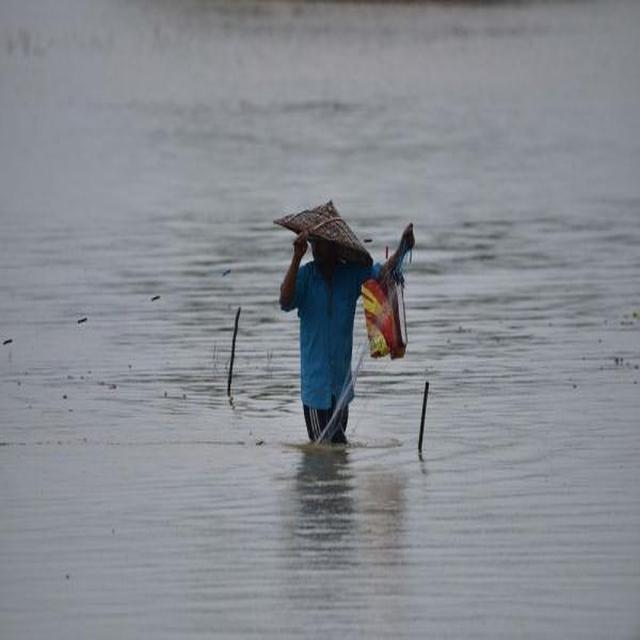Person-RiskLevel2: (267, 186, 412, 467)
